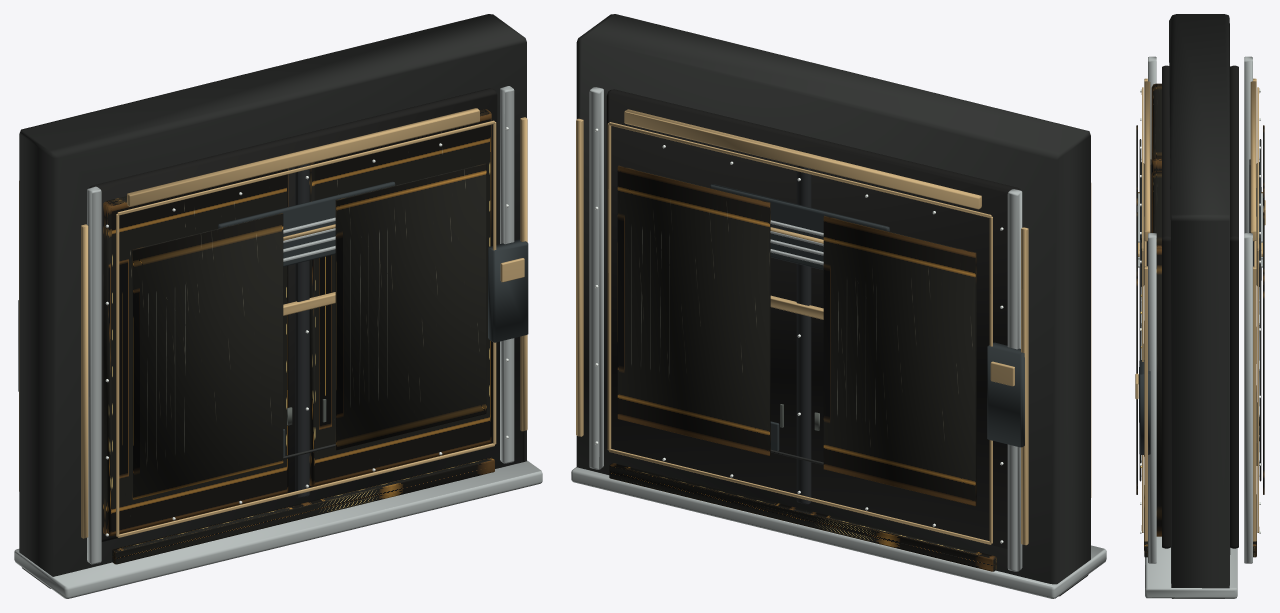
The model's file is age_museum_gallery_door.glb.
3 views of the same model, side by side, from view 1: azimuth 30°, elevation 25°; view 2: azimuth 150°, elevation 25°; view 3: azimuth 270°, elevation 25° (orthographic). The views are drawn at different scales.
Parts seen in each view (by area): view 1: age_museum_gallery_door_outer_frame, age_museum_gallery_door_front_right_image2_hero_face, age_museum_gallery_door_front_left_image2_hero_face, age_museum_gallery_door_left_leaf, age_museum_gallery_door_right_leaf, age_museum_gallery_door_threshold_dark_base, age_museum_gallery_door_inner_shadow_reveal_front, age_museum_gallery_door_threshold_gold_inlay, age_museum_gallery_door_top_track_gold, age_museum_gallery_door_left_frame_rib, age_museum_gallery_door_right_frame_rib, age_museum_gallery_door_center_dark_split (+8 smaller); view 2: age_museum_gallery_door_outer_frame, age_museum_gallery_door_inner_shadow_reveal_back, age_museum_gallery_door_back_right_image2_hero_face, age_museum_gallery_door_back_left_image2_hero_face, age_museum_gallery_door_threshold_dark_base, age_museum_gallery_door_back_threshold_gold_inlay, age_museum_gallery_door_back_right_frame_rib, age_museum_gallery_door_back_top_track_gold, age_museum_gallery_door_back_center_dark_split, age_museum_gallery_door_back_left_frame_rib, age_museum_gallery_door_back_reader_body, age_museum_gallery_door_back_octagon_header (+6 smaller); view 3: age_museum_gallery_door_outer_frame, age_museum_gallery_door_inner_shadow_reveal_back, age_museum_gallery_door_inner_shadow_reveal_front, age_museum_gallery_door_back_right_frame_rib, age_museum_gallery_door_right_frame_rib, age_museum_gallery_door_right_leaf, age_museum_gallery_door_threshold_dark_base, age_museum_gallery_door_back_left_frame_rib, age_museum_gallery_door_back_right_vertical_edge_glow, age_museum_gallery_door_right_vertical_edge_glow, age_museum_gallery_door_top_track_gold, age_museum_gallery_door_back_top_track_gold (+15 smaller).
Boxes of the visible parts, left/top/right/bottom form: age_museum_gallery_door_outer_frame: left=19, top=14, right=526, bottom=588; age_museum_gallery_door_front_right_image2_hero_face: left=335, top=163, right=486, bottom=450; age_museum_gallery_door_front_left_image2_hero_face: left=132, top=213, right=283, bottom=499; age_museum_gallery_door_left_leaf: left=103, top=169, right=288, bottom=535; age_museum_gallery_door_right_leaf: left=309, top=109, right=491, bottom=486; age_museum_gallery_door_threshold_dark_base: left=14, top=460, right=542, bottom=598; age_museum_gallery_door_inner_shadow_reveal_front: left=89, top=88, right=497, bottom=541; age_museum_gallery_door_threshold_gold_inlay: left=112, top=457, right=494, bottom=564; age_museum_gallery_door_top_track_gold: left=127, top=108, right=479, bottom=206; age_museum_gallery_door_left_frame_rib: left=87, top=186, right=101, bottom=564; age_museum_gallery_door_right_frame_rib: left=500, top=86, right=514, bottom=463; age_museum_gallery_door_center_dark_split: left=295, top=163, right=309, bottom=498; age_museum_gallery_door_outer_frame: left=576, top=14, right=1090, bottom=596; age_museum_gallery_door_inner_shadow_reveal_back: left=606, top=89, right=1020, bottom=548; age_museum_gallery_door_back_right_image2_hero_face: left=617, top=165, right=770, bottom=455; age_museum_gallery_door_back_left_image2_hero_face: left=823, top=215, right=976, bottom=506; age_museum_gallery_door_threshold_dark_base: left=571, top=467, right=1106, bottom=598; age_museum_gallery_door_back_threshold_gold_inlay: left=609, top=463, right=996, bottom=571; age_museum_gallery_door_back_right_frame_rib: left=589, top=87, right=603, bottom=469; age_museum_gallery_door_back_top_track_gold: left=624, top=109, right=981, bottom=209; age_museum_gallery_door_back_center_dark_split: left=796, top=165, right=811, bottom=504; age_museum_gallery_door_back_left_frame_rib: left=1007, top=189, right=1022, bottom=571; age_museum_gallery_door_back_reader_body: left=987, top=342, right=1024, bottom=447; age_museum_gallery_door_back_octagon_header: left=710, top=184, right=889, bottom=269; age_museum_gallery_door_outer_frame: left=1169, top=14, right=1230, bottom=598; age_museum_gallery_door_inner_shadow_reveal_back: left=1230, top=65, right=1238, bottom=548; age_museum_gallery_door_inner_shadow_reveal_front: left=1162, top=65, right=1170, bottom=548; age_museum_gallery_door_back_right_frame_rib: left=1244, top=233, right=1252, bottom=563; age_museum_gallery_door_right_frame_rib: left=1148, top=233, right=1156, bottom=563; age_museum_gallery_door_right_leaf: left=1151, top=170, right=1161, bottom=536; age_museum_gallery_door_threshold_dark_base: left=1145, top=536, right=1237, bottom=598; age_museum_gallery_door_back_left_frame_rib: left=1244, top=56, right=1252, bottom=233; age_museum_gallery_door_back_right_vertical_edge_glow: left=1253, top=266, right=1256, bottom=541; age_museum_gallery_door_right_vertical_edge_glow: left=1144, top=266, right=1147, bottom=541; age_museum_gallery_door_top_track_gold: left=1144, top=81, right=1150, bottom=241; age_museum_gallery_door_back_top_track_gold: left=1250, top=81, right=1256, bottom=241.
Bounding box in the file's own units: 2.92 × 2.55 × 0.786.
11 materials, 1 textured.
